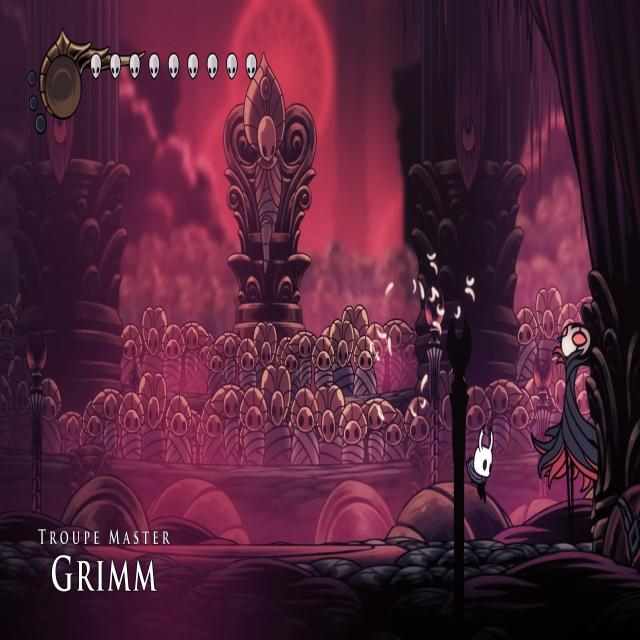Grimm: (529, 318, 601, 541)
Player: (466, 422, 498, 508)
